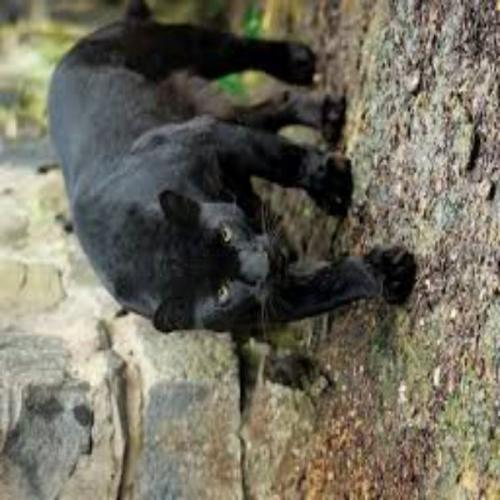panther-endangered: (53, 14, 404, 319)
